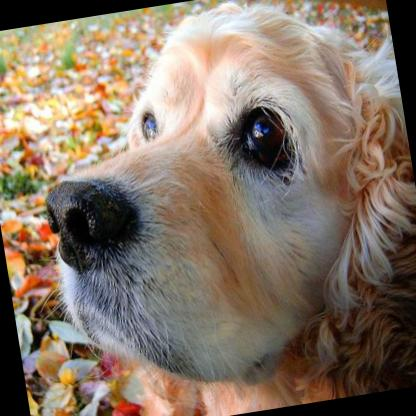cocker_spaniel: (12, 0, 416, 416)
